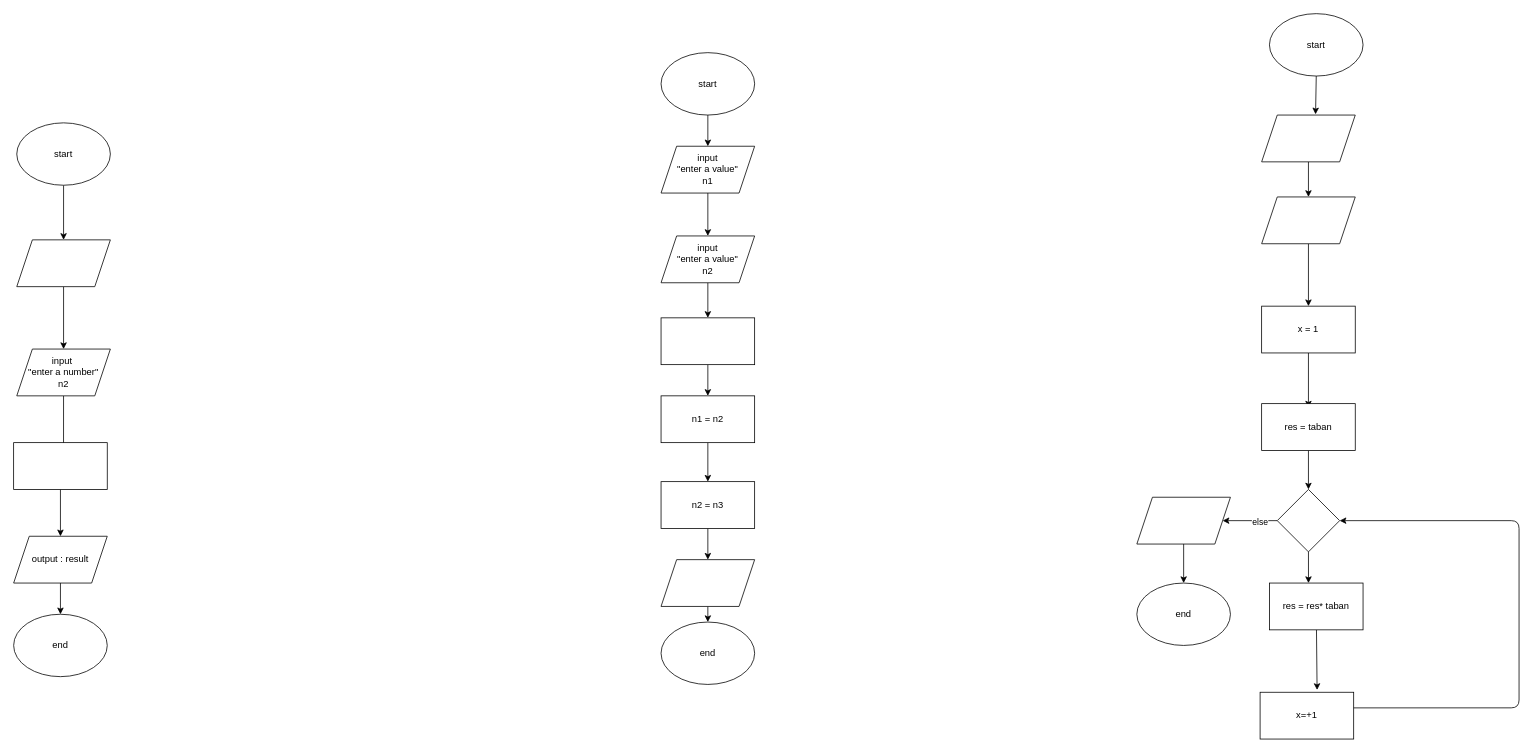
Some shapes in this 1539 by 753 pixel diagram are drawn without their labels. The shapes that lost their labels are listed below. From the top down, each one's centre as x and y in pixels, then its label:
point (1308, 138): input "taban girin" taban
point (1308, 220): input "us girin" us
point (63, 263): input "enter a number" , n1
point (707, 341): n3 = n1
point (60, 465): result = (n1+n2) / 2
point (1183, 520): output res
point (1308, 520): if x <= us
point (707, 582): output : n1, n2
